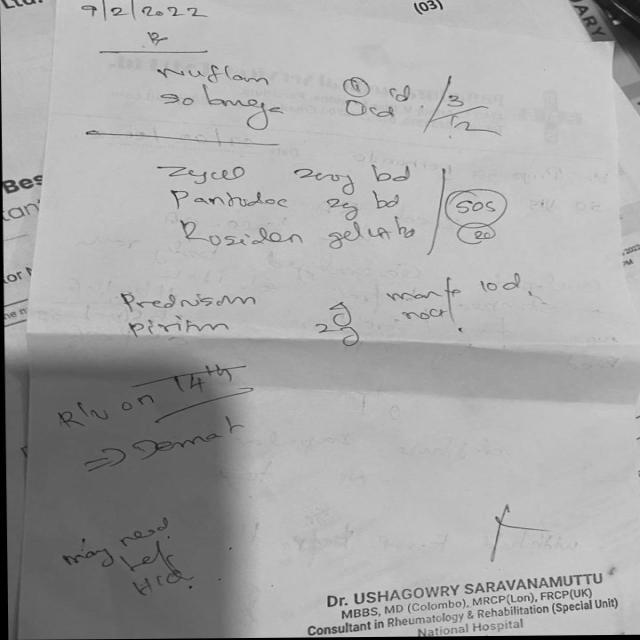Prescription: (109, 268, 530, 318), (116, 302, 454, 353), (145, 62, 421, 107), (154, 87, 404, 127), (172, 214, 420, 254), (162, 186, 404, 218), (154, 161, 418, 189)
